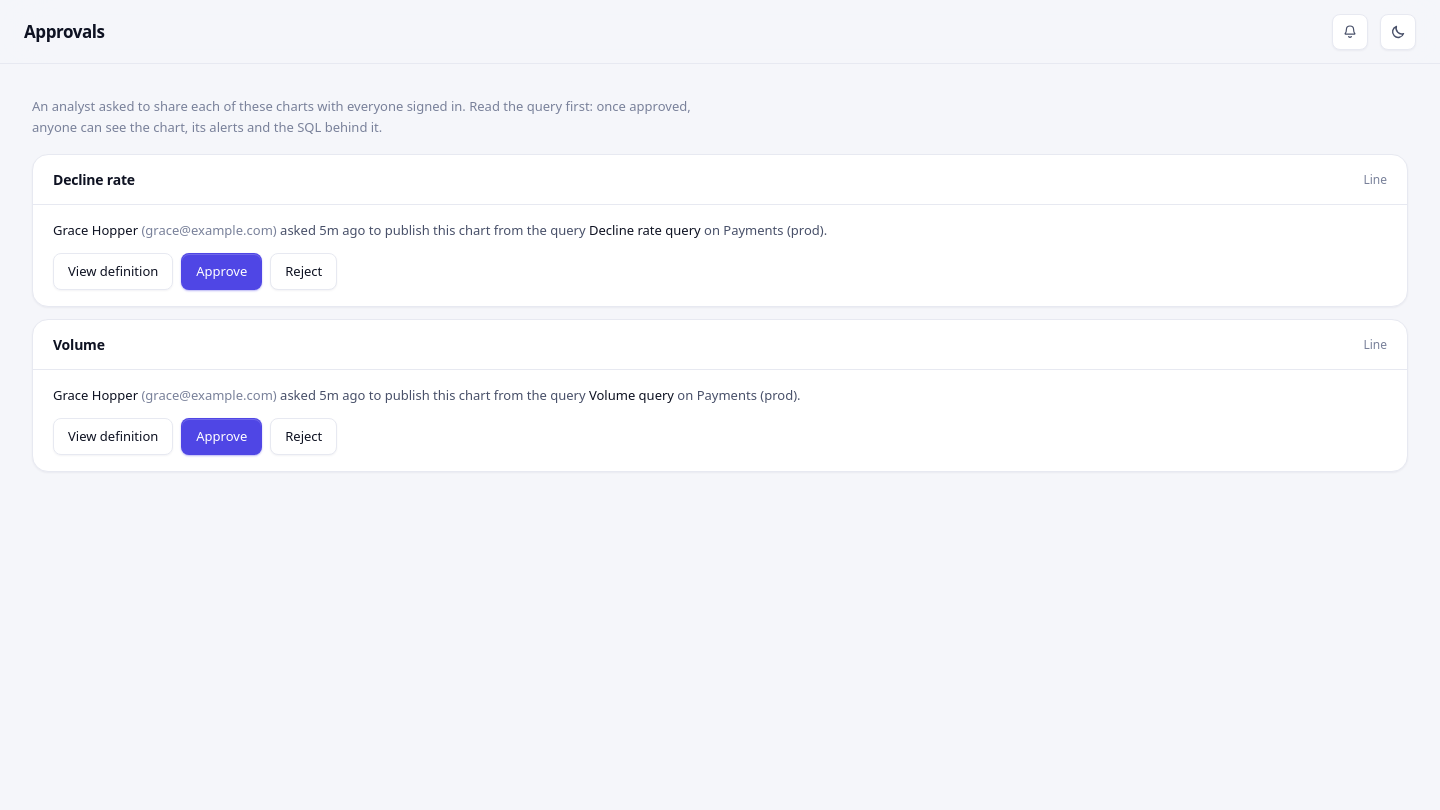
for an administrator › opens the read-only definition so the SQL is read before approving
The image size is (1440, 810).
Click the 1st button "View definition" at (113, 272), box [53,253,173,290]
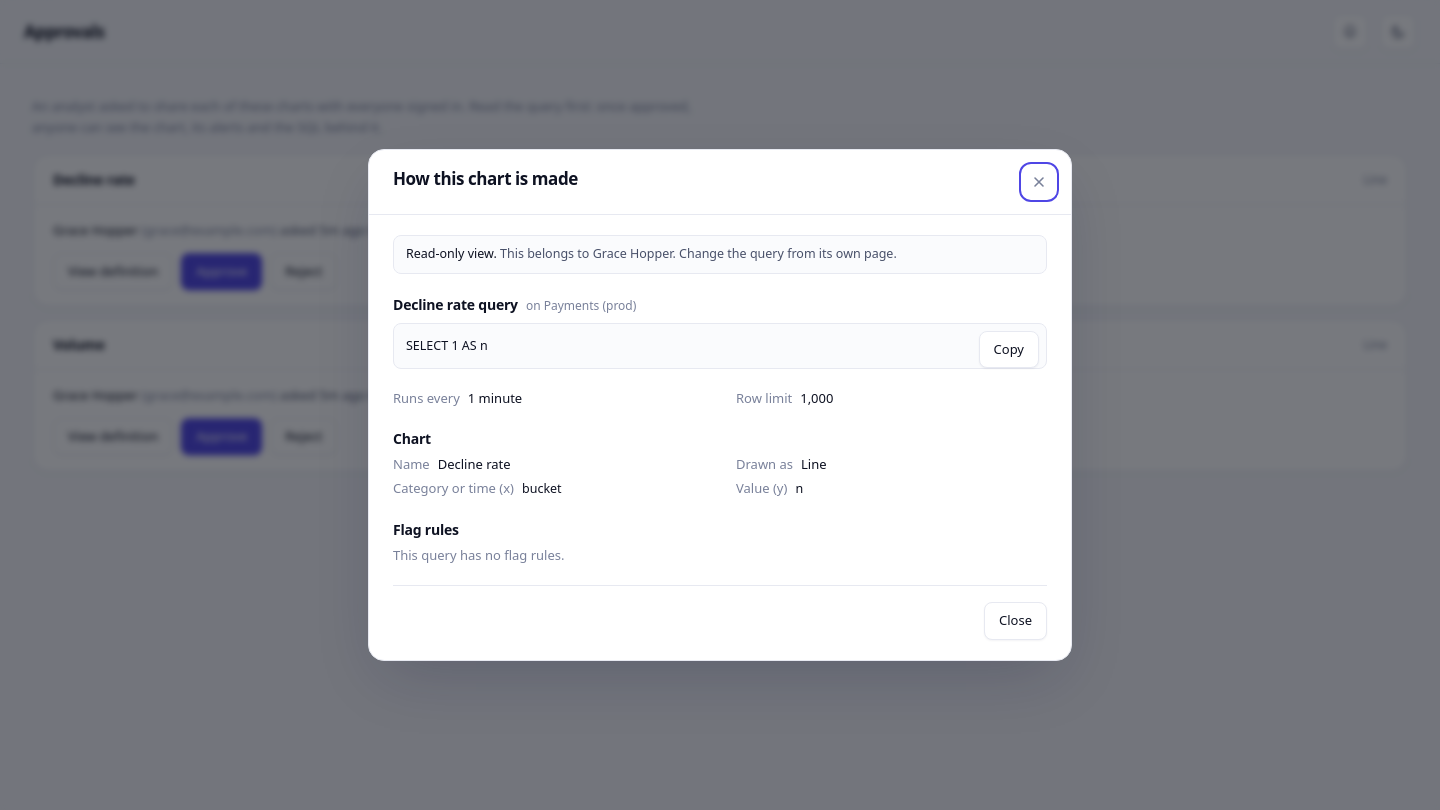
Expected: the text named "SQL" reads "SELECT 1 AS n", [406,337,488,354]
